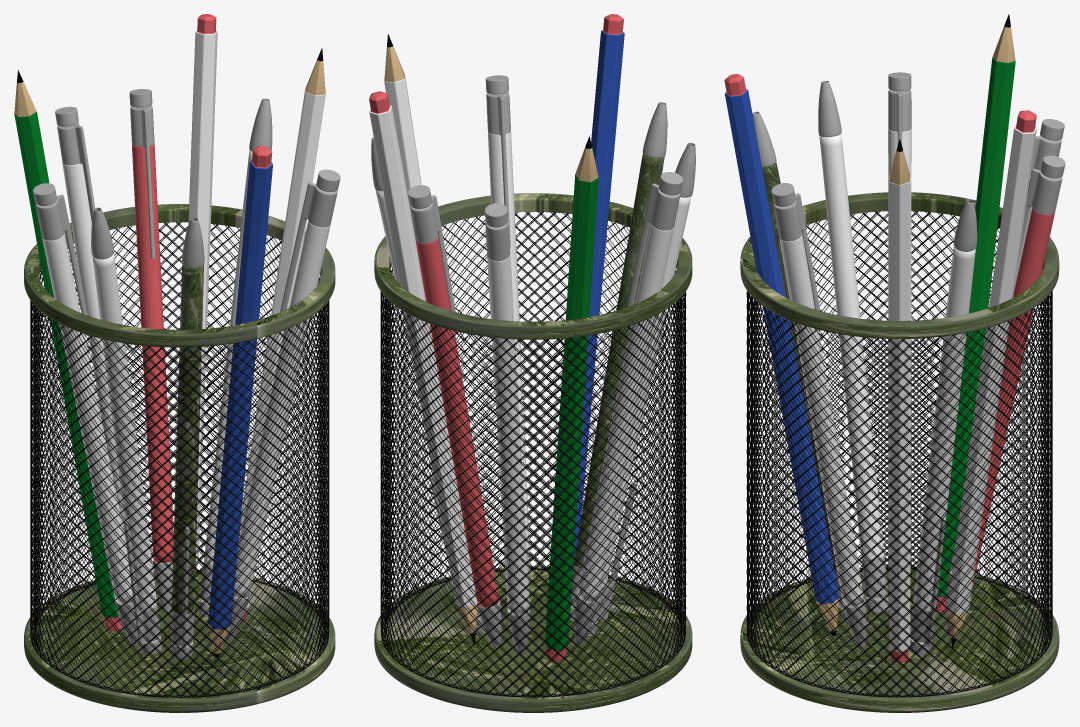
Rendered from desk-pen-holder.glb.
3 renders of one model, left to right at view 1: azimuth 30°, elevation 25°; view 2: azimuth 150°, elevation 25°; view 3: azimuth 270°, elevation 25°, orthographic. The views are drawn at different scales.
Parts seen in each view (by area): view 1: Cylinder.032, Cylinder.001, Cylinder.010, Cylinder.002, Cylinder.017, Cylinder.006, Cylinder.003, Cylinder.029, Cylinder.023, Cylinder.015, Cylinder.013, Cylinder.009 (+15 smaller); view 2: Cylinder.032, Cylinder.001, Cylinder.015, Cylinder.013, Cylinder.002, Cylinder.003, Cylinder.017, Cylinder.020, Cylinder.010, Cylinder.023, Cylinder.006, Cylinder.029 (+14 smaller); view 3: Cylinder.032, Cylinder.001, Cylinder.010, Cylinder.015, Cylinder.002, Cylinder.013, Cylinder.009, Cylinder.029, Cylinder.006, Cylinder.026, Cylinder.017, Cylinder.008 (+13 smaller).
Boxes of the visible parts, box(x1,y1,x2,y2) form: Cylinder.032: box(30, 222, 329, 697); Cylinder.001: box(24, 570, 335, 712); Cylinder.010: box(208, 146, 272, 629); Cylinder.002: box(24, 204, 335, 347); Cylinder.017: box(132, 144, 173, 562); Cylinder.006: box(234, 220, 330, 598); Cylinder.003: box(42, 233, 133, 604); Cylinder.029: box(92, 254, 156, 610); Cylinder.023: box(171, 264, 203, 614); Cylinder.015: box(188, 14, 217, 564); Cylinder.013: box(14, 111, 122, 630); Cylinder.009: box(239, 88, 325, 620); Cylinder.032: box(380, 212, 686, 697); Cylinder.001: box(374, 566, 692, 712); Cylinder.015: box(369, 91, 477, 607); Cylinder.013: box(545, 174, 598, 661); Cylinder.002: box(374, 193, 692, 339); Cylinder.003: box(577, 223, 673, 601); Cylinder.017: box(415, 236, 498, 607); Cylinder.020: box(487, 255, 529, 615); Cylinder.010: box(573, 14, 624, 565); Cylinder.023: box(574, 153, 664, 568); Cylinder.006: box(488, 132, 529, 557); Cylinder.029: box(601, 196, 691, 586); Cylinder.032: box(746, 211, 1052, 697); Cylinder.001: box(740, 566, 1059, 712); Cylinder.010: box(724, 74, 839, 603); Cylinder.015: box(947, 110, 1036, 613); Cylinder.002: box(740, 192, 1059, 338); Cylinder.013: box(936, 57, 1015, 612); Cylinder.009: box(889, 175, 910, 663); Cylinder.029: box(819, 134, 884, 559); Cylinder.006: box(779, 233, 864, 606); Cylinder.026: box(913, 246, 975, 610); Cylinder.017: box(972, 207, 1054, 587); Cylinder.008: box(771, 183, 820, 310).
Bounding box in the file's own units: 0.1701 × 0.3158 × 0.1687.
10 materials, 1 textured.
